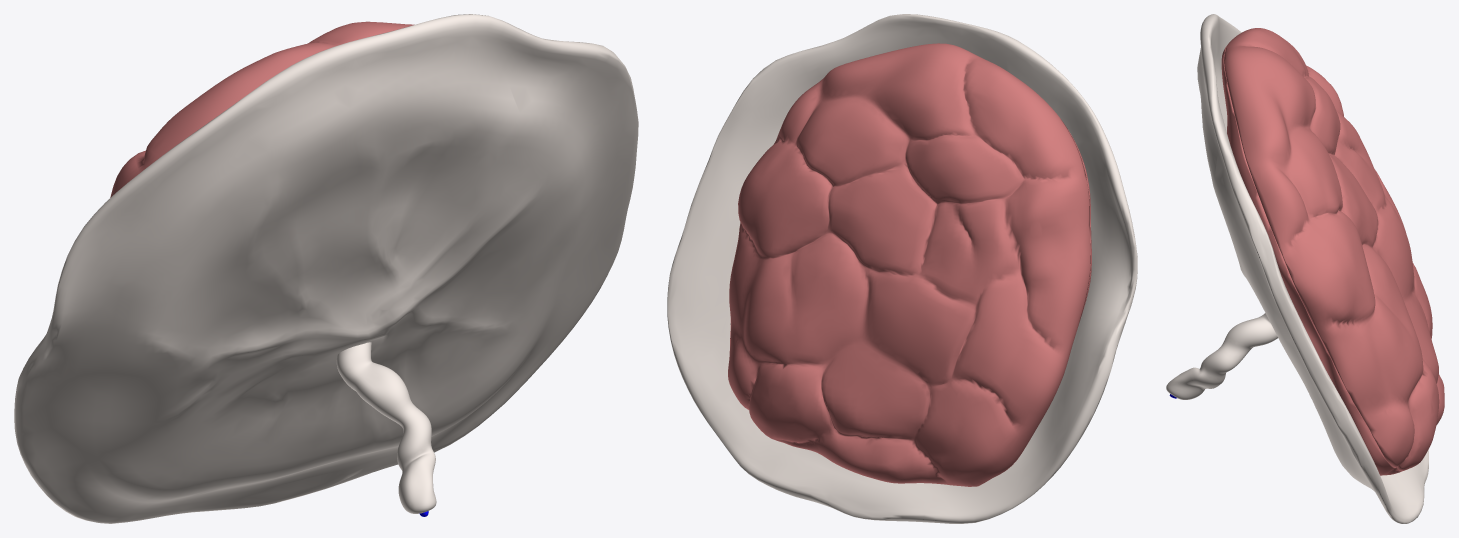
File: vh_f_placenta-80.glb
3 renders of one model, left to right at view 1: azimuth 30°, elevation 25°; view 2: azimuth 150°, elevation 25°; view 3: azimuth 270°, elevation 25°, orthographic. The views are drawn at different scales.
Visible parts, largest first — view 1: VH_F_amnion, VH_F_basal_plate, VH_F_umbilical_cord; view 2: VH_F_basal_plate, VH_F_amnion; view 3: VH_F_basal_plate, VH_F_amnion, VH_F_chorionic_plate, VH_F_umbilical_cord.
Part boxes in pixels (<box>): VH_F_amnion: <box>14,14,638,523</box>; VH_F_basal_plate: <box>110,21,414,197</box>; VH_F_umbilical_cord: <box>336,342,436,513</box>; VH_F_basal_plate: <box>728,43,1090,486</box>; VH_F_amnion: <box>667,14,1137,523</box>; VH_F_basal_plate: <box>1224,28,1444,471</box>; VH_F_amnion: <box>1197,14,1428,523</box>; VH_F_chorionic_plate: <box>1221,46,1400,475</box>; VH_F_umbilical_cord: <box>1166,313,1277,399</box>.
Bounding box in the file's own units: 0.2509 × 0.2305 × 0.1338.
